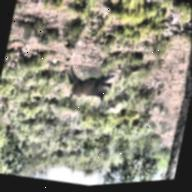boar: (62, 55, 123, 107)
